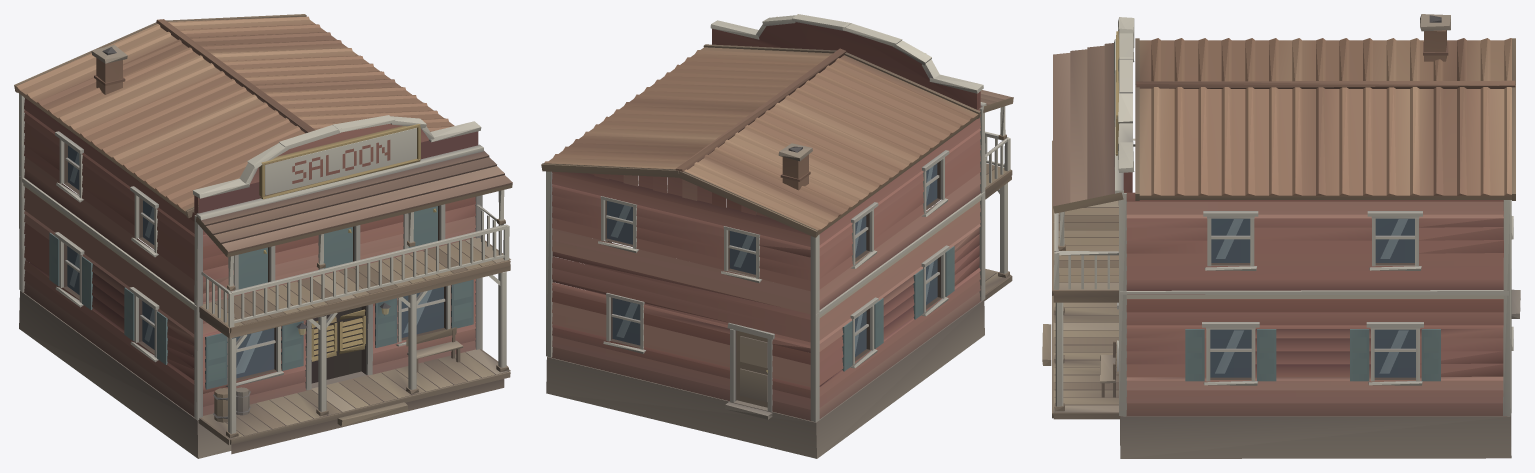
File: house_3.lod1.glb
3 views of the same model, side by side, from view 1: azimuth 30°, elevation 25°; view 2: azimuth 150°, elevation 25°; view 3: azimuth 270°, elevation 25° (orthographic). The views are drawn at different scales.
Bounding box in the file's own units: 8.74 × 8.47 × 11.34.
